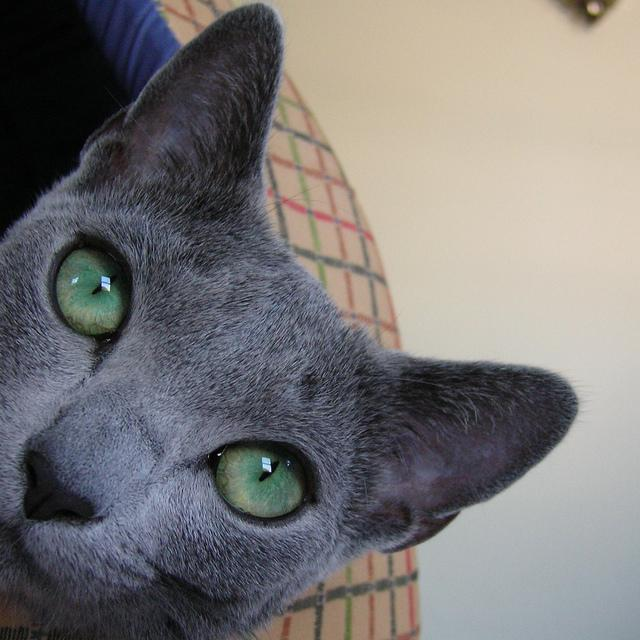animals: (27, 6, 571, 543)
